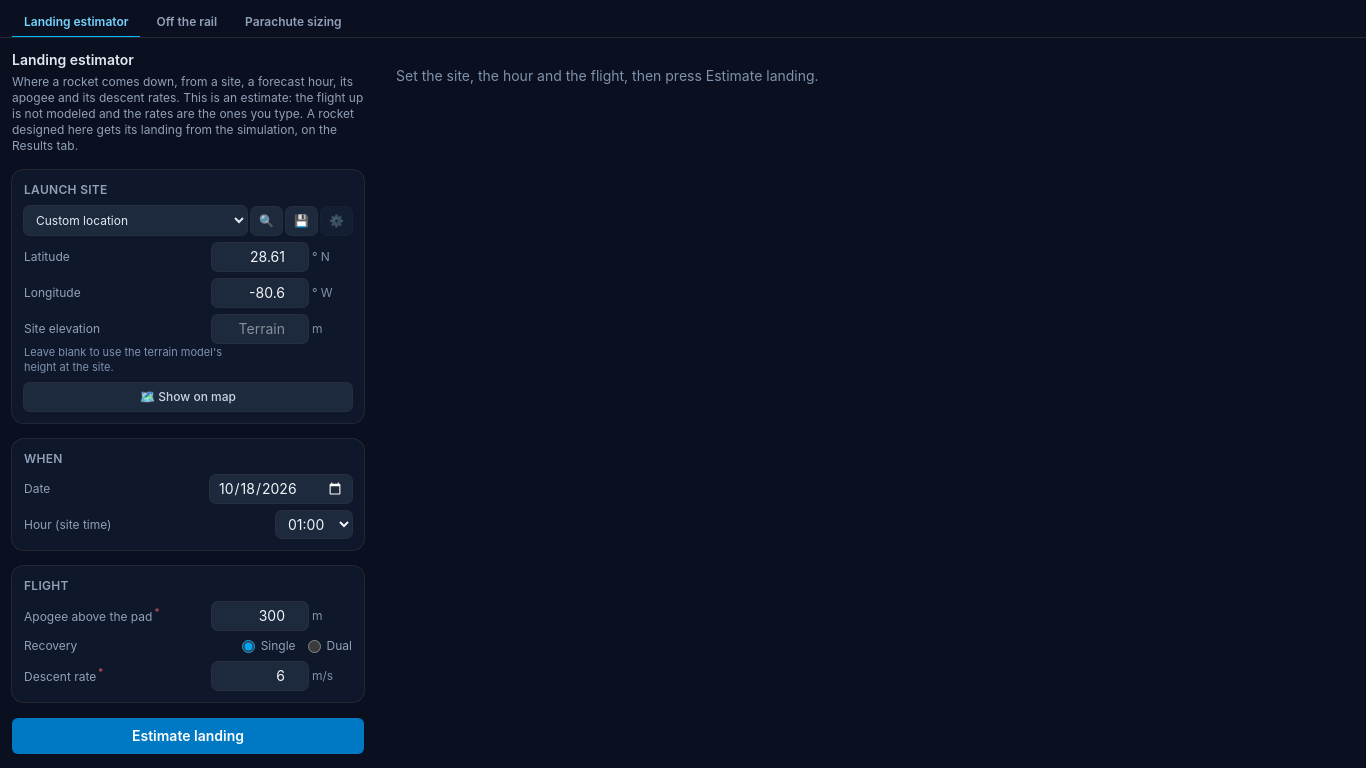
it: the Tools tab › opens on the landing estimator, and switches tools from a tab list
Expected: the heading "Landing estimator" is shown, [12,51,134,68]
Click the tab "Parachute sizing" at (293, 23), box [233,8,354,38]
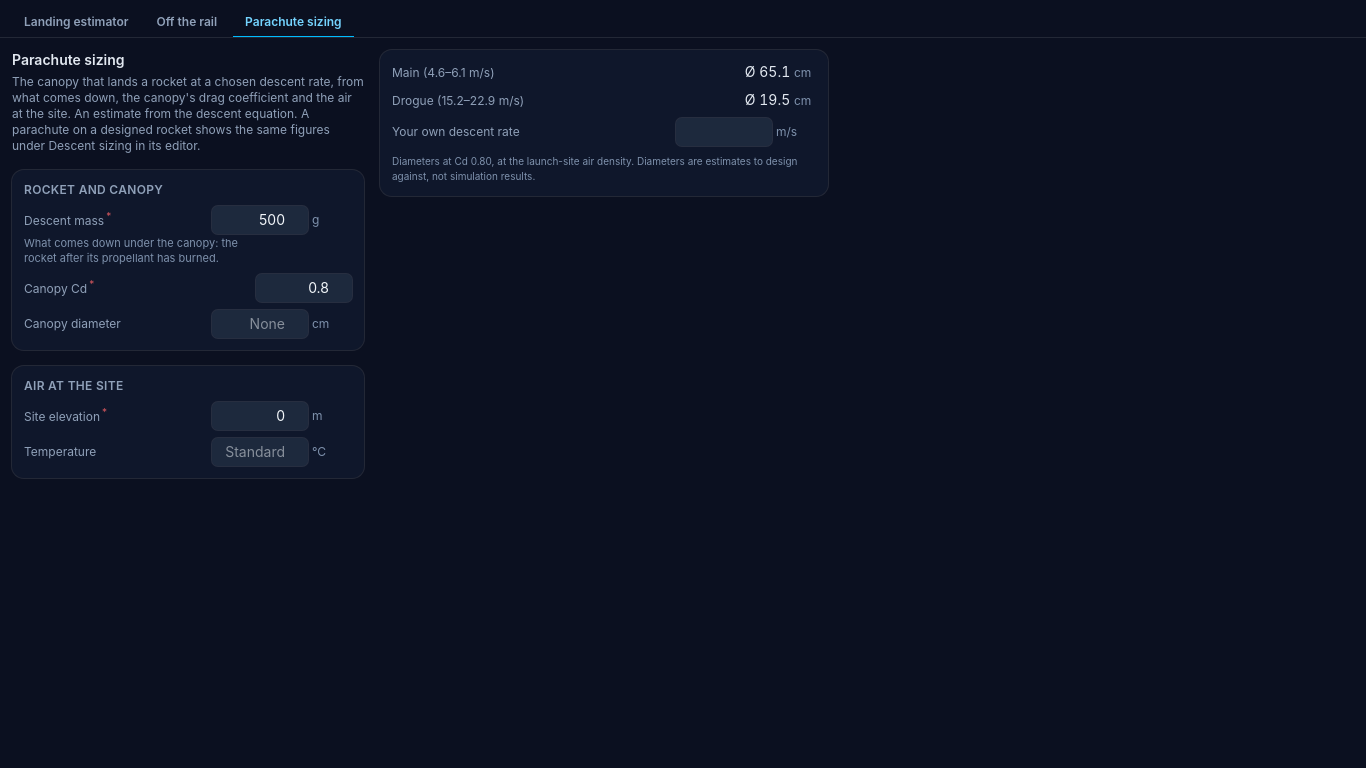
Now the heading "Parachute sizing" is shown, box [12,51,125,68]
